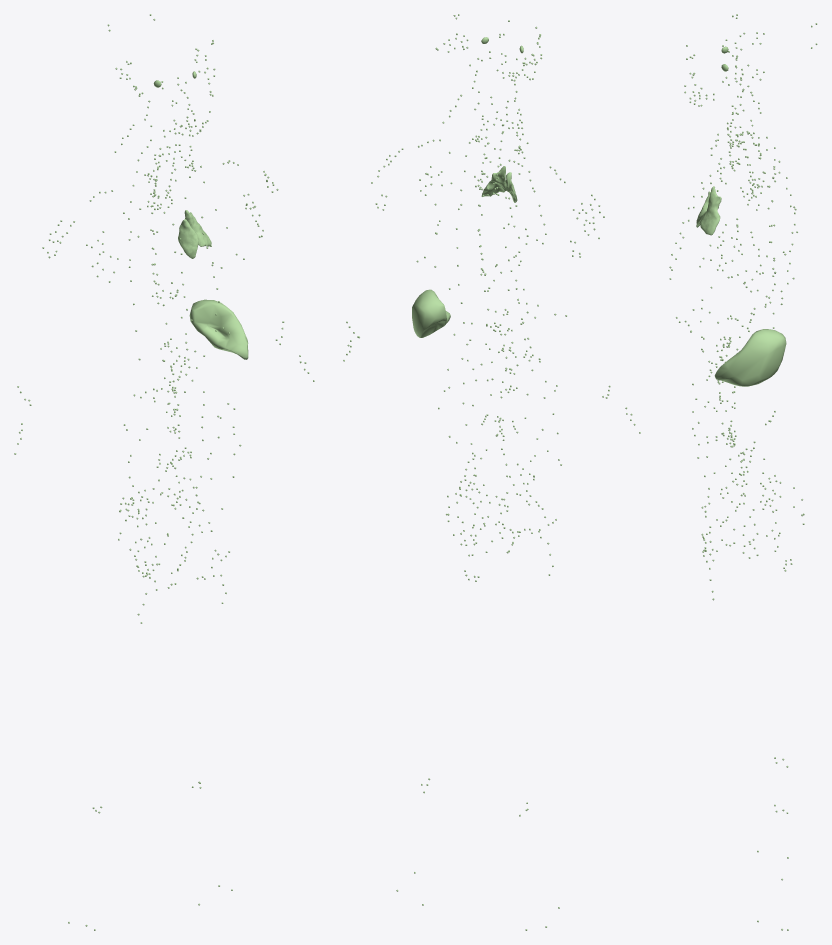
The model's file is lymphatic.glb.
3 renders of one model, left to right at view 1: azimuth 30°, elevation 25°; view 2: azimuth 150°, elevation 25°; view 3: azimuth 270°, elevation 25°, orthographic.
Visible parts, largest first — view 1: LYM.spleen.C; view 2: LYM.spleen.C; view 3: LYM.spleen.C, LYM.left_lobe_of_thymus.C.
Part boxes in pixels (left/top/right/bottom): LYM.spleen.C: left=189, top=299, right=248, bottom=359; LYM.spleen.C: left=412, top=289, right=450, bottom=337; LYM.spleen.C: left=714, top=329, right=786, bottom=386; LYM.left_lobe_of_thymus.C: left=699, top=186, right=721, bottom=235.
Size of the model in its own units: 0.4523 by 1.28 by 0.1963.
